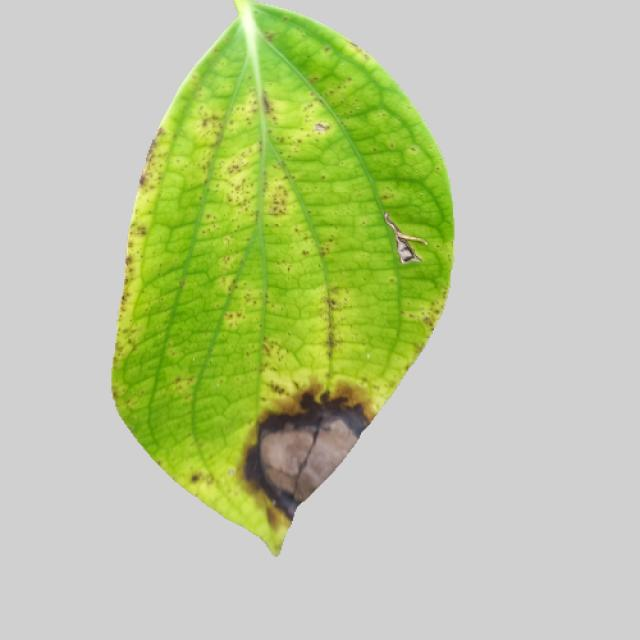leaf-blight: (87, 14, 489, 563)
